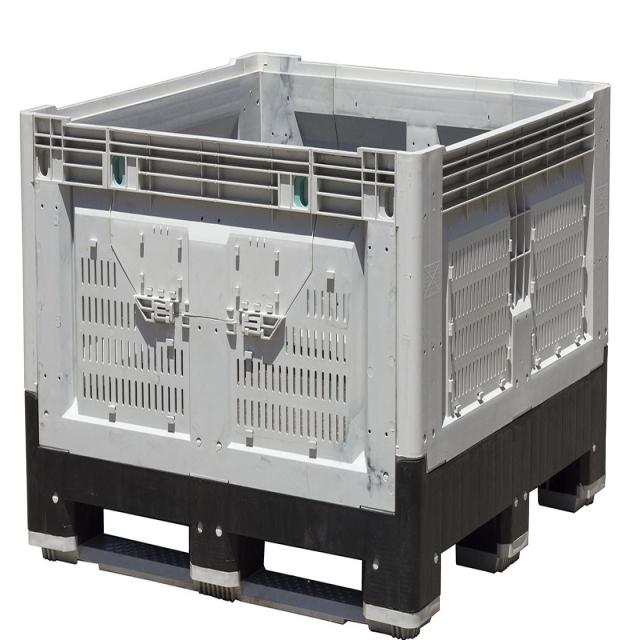basket: (12, 49, 613, 640)
